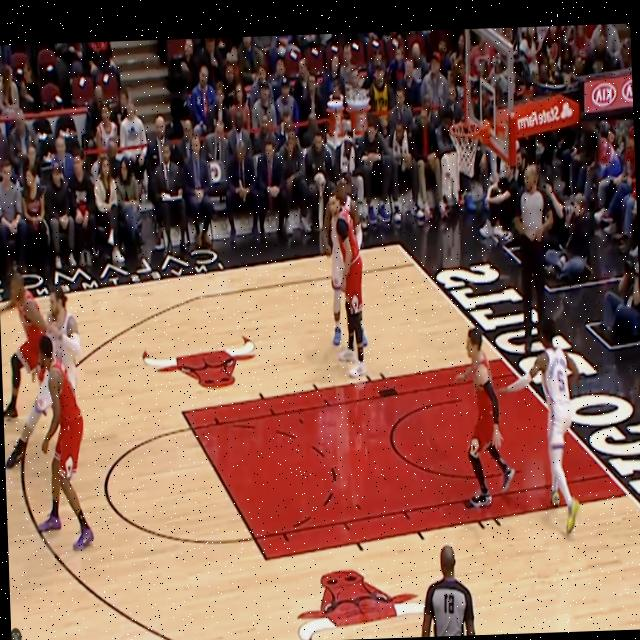no foul: (446, 316, 590, 509), (3, 262, 96, 543), (317, 164, 383, 384)
